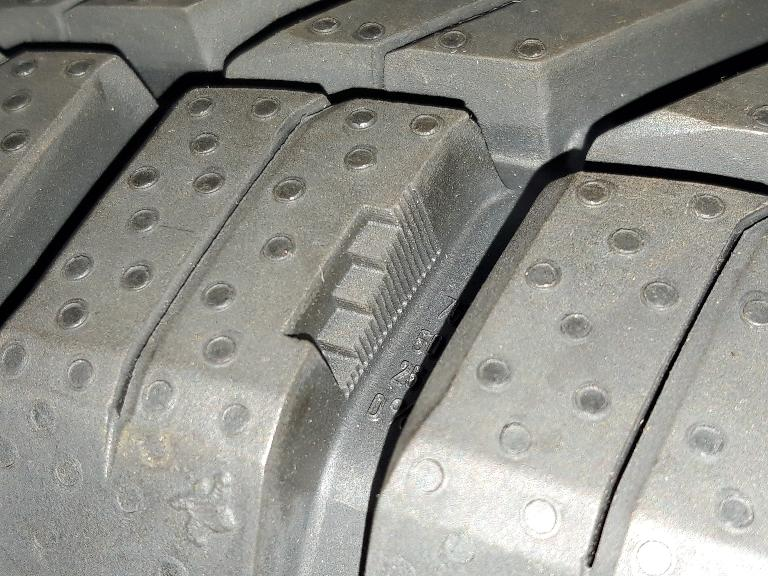temoin:100: (272, 174, 454, 413)
